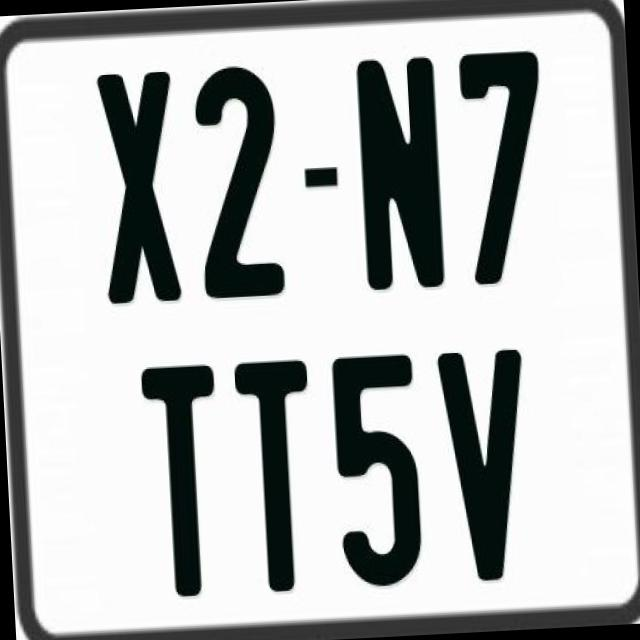2: (192, 59, 288, 296)
5: (331, 352, 426, 584)
7: (456, 48, 550, 288)
N: (354, 55, 451, 294)
T: (232, 359, 324, 592), (138, 360, 225, 602)
V: (435, 345, 537, 584)
X: (94, 69, 180, 308)
